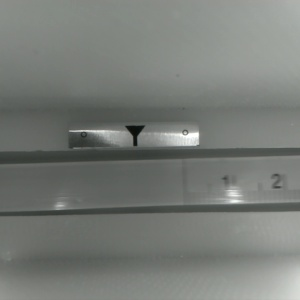2: (269, 172, 283, 190)
finger: (124, 125, 145, 144)
